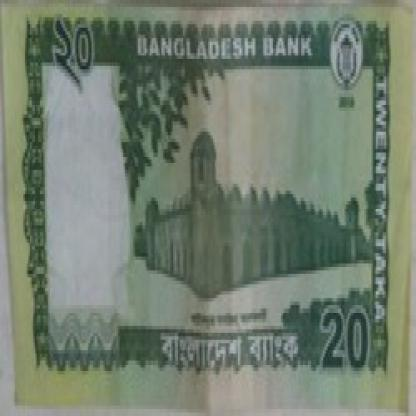Twenty: (43, 17, 105, 114), (320, 294, 381, 392)
